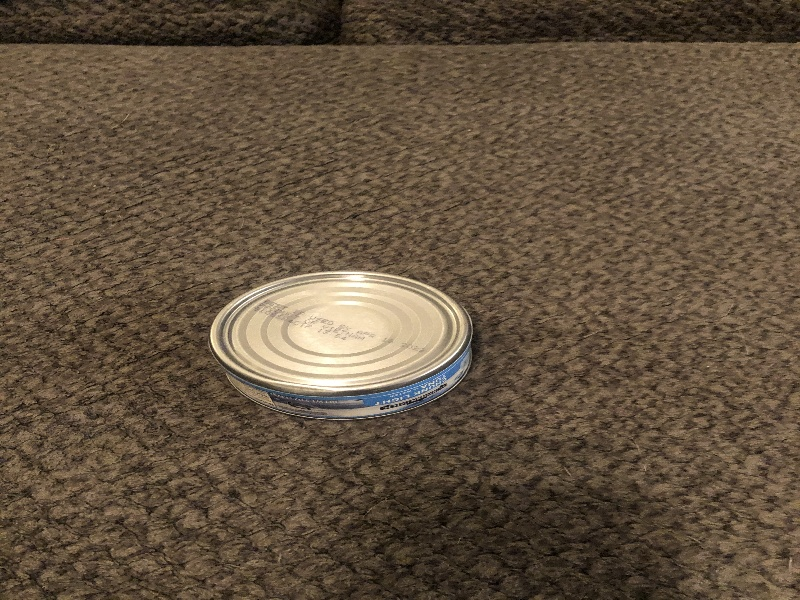metal: (211, 269, 485, 420)
